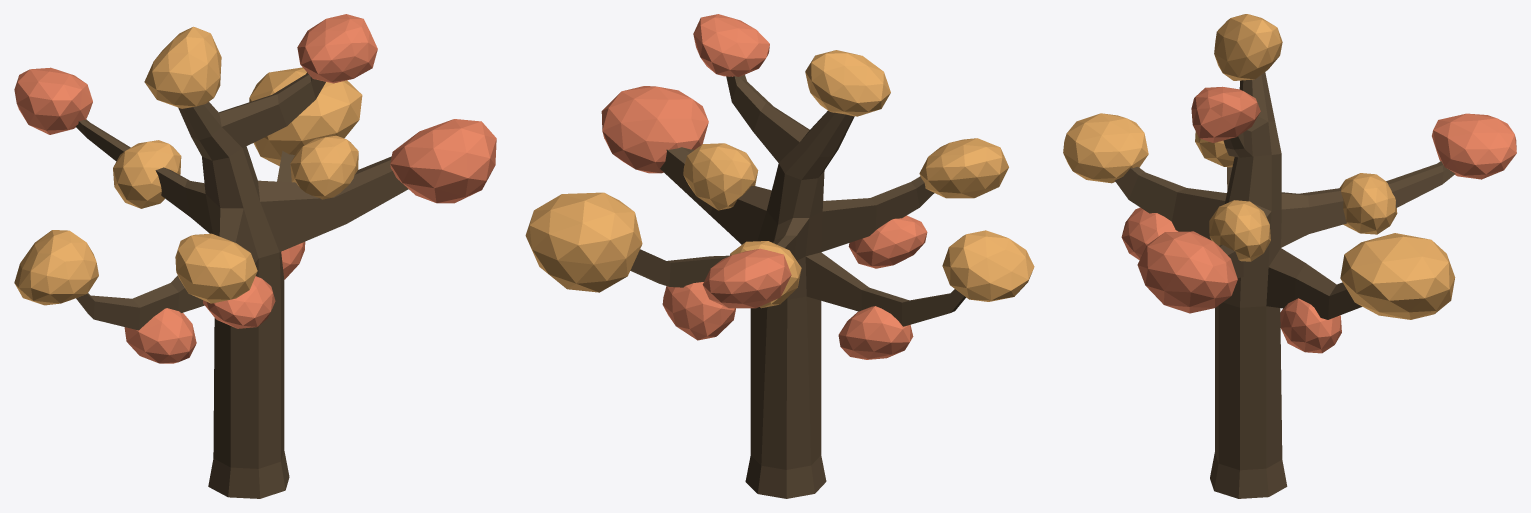
The model's file is Tree [05].fbx.
The picture shows the model from 3 angles, left to right: view 1: azimuth 30°, elevation 25°; view 2: azimuth 150°, elevation 25°; view 3: azimuth 270°, elevation 25°; orthographic projection. The views are drawn at different scales.
Visible parts, largest first — view 1: tree4matkonam; view 2: tree4matkonam; view 3: tree4matkonam.
Part boxes in pixels (box(x1,y1,x2,y2)): tree4matkonam: box(14, 14, 496, 498); tree4matkonam: box(525, 14, 1034, 498); tree4matkonam: box(1063, 14, 1516, 498).
Size of the model in its own units: 321 by 311 by 290.
